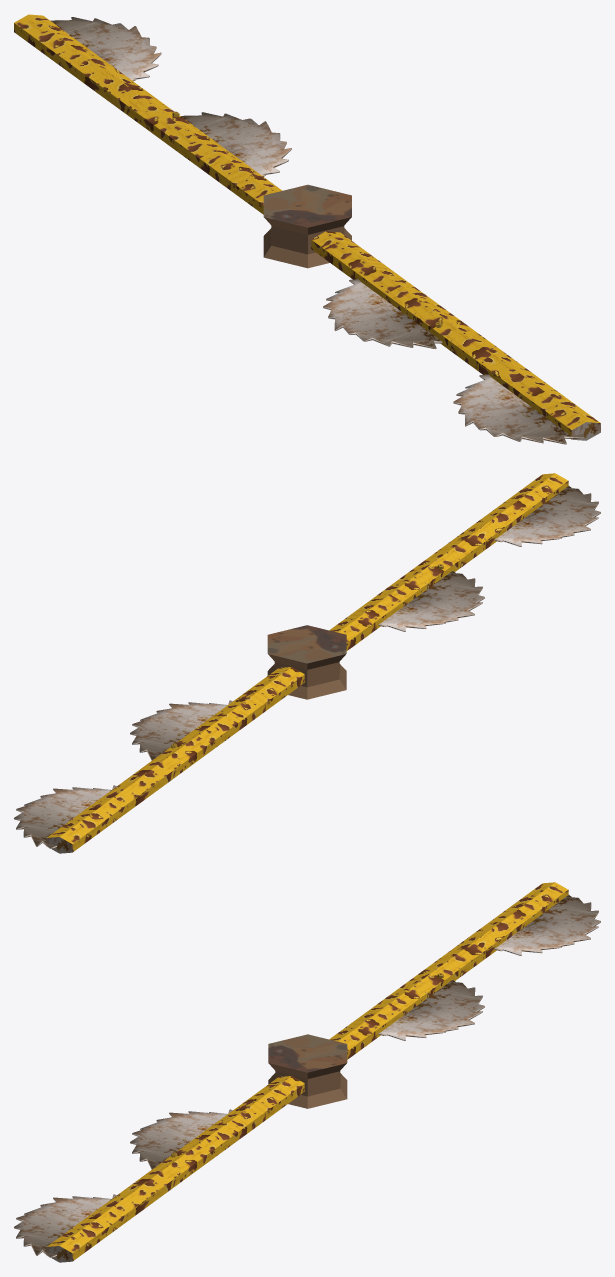
Rendered from spinning_blade..fbx.
3 views of the same model, one above another, from view 1: azimuth 30°, elevation 25°; view 2: azimuth 150°, elevation 25°; view 3: azimuth 330°, elevation 25° (orthographic). The views are drawn at different scales.
Parts seen in each view (by area): view 1: Spinning_Blade_P1, Spinning_Blade_P2, Spinning_Blade_Middle; view 2: Spinning_Blade_P2, Spinning_Blade_P1, Spinning_Blade_Middle; view 3: Spinning_Blade_P1, Spinning_Blade_P2, Spinning_Blade_Middle.
Part boxes in pixels (x1,y1,x2,y2): Spinning_Blade_P1: (311,231,600,444); Spinning_Blade_P2: (14,14,291,214); Spinning_Blade_Middle: (263,184,351,268); Spinning_Blade_P2: (14,667,304,853); Spinning_Blade_P1: (329,473,600,650); Spinning_Blade_Middle: (267,625,346,699); Spinning_Blade_P1: (14,1076,304,1262); Spinning_Blade_P2: (329,882,600,1059); Spinning_Blade_Middle: (268,1034,347,1108).
Size of the model in its own units: 121 by 29.35 by 740.
2 materials, 2 textured.
